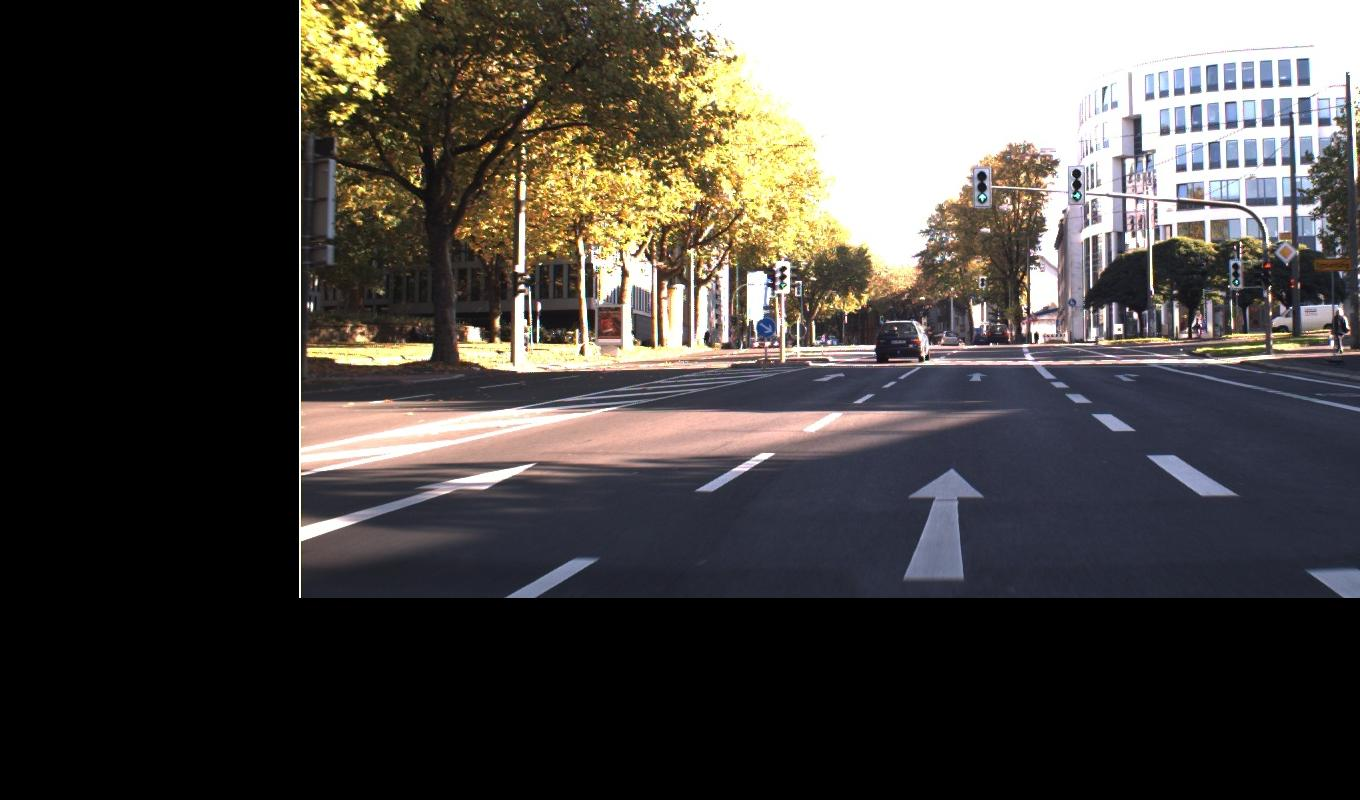priority road: (755, 240, 1298, 338)
